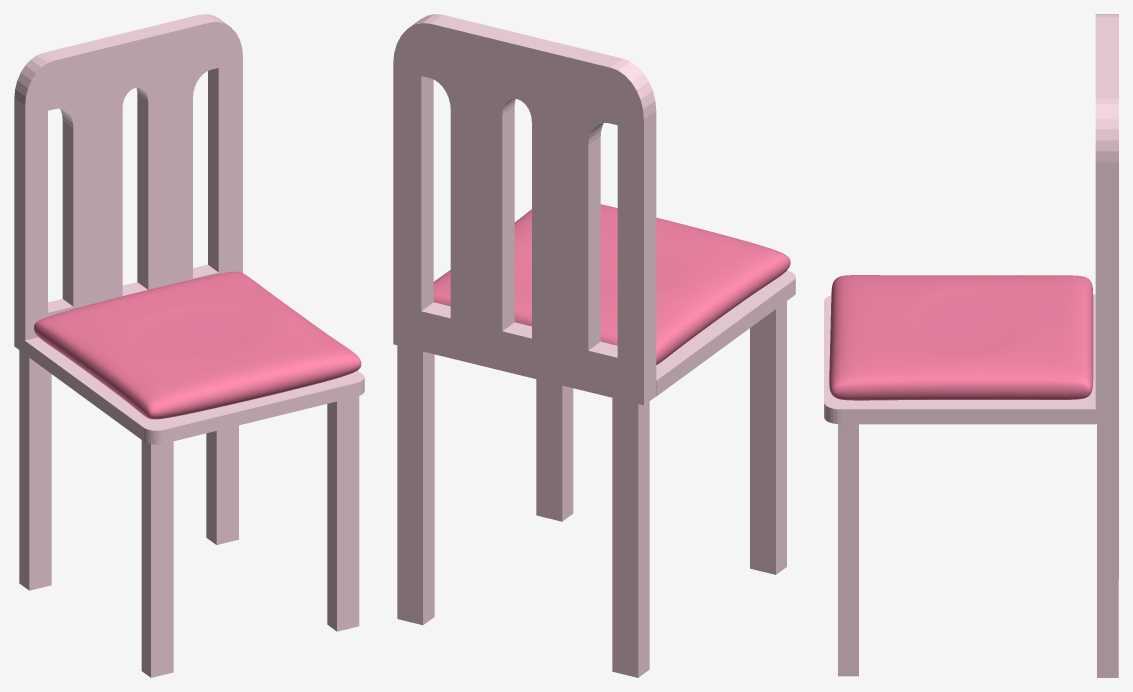
The model's file is Sandalyemodel2.fbx.
3 renders of one model, left to right at view 1: azimuth 30°, elevation 25°; view 2: azimuth 150°, elevation 25°; view 3: azimuth 270°, elevation 25°, orthographic. The views are drawn at different scales.
Parts seen in each view (by area): view 1: Başlık, Minder, Alt, ayak1, ayak2, ayak4, ayak3; view 2: Başlık, Minder, ayak4, ayak3, ayak1, ayak2, Alt; view 3: Minder, Başlık, Alt, ayak3, ayak2.
Boxes of the visible parts, box(x1,y1,x2,y2) form: Başlık: box(14, 14, 242, 353); Minder: box(34, 271, 361, 419); Alt: box(24, 337, 364, 444); ayak1: box(141, 440, 173, 677); ayak2: box(327, 396, 359, 631); ayak4: box(19, 350, 51, 590); ayak3: box(206, 425, 238, 544); Başlık: box(393, 14, 656, 405); Minder: box(433, 204, 790, 364); ayak4: box(612, 398, 649, 677); ayak3: box(397, 345, 434, 625); ayak1: box(750, 301, 786, 574); ayak2: box(536, 379, 573, 521); Alt: box(656, 270, 795, 396); Minder: box(829, 275, 1093, 400); Başlık: box(1095, 14, 1118, 423); Alt: box(824, 294, 1095, 424); ayak3: box(1097, 424, 1118, 677); ayak2: box(838, 424, 858, 676).
Size of the model in its own units: 29.41 by 67.31 by 31.88.
